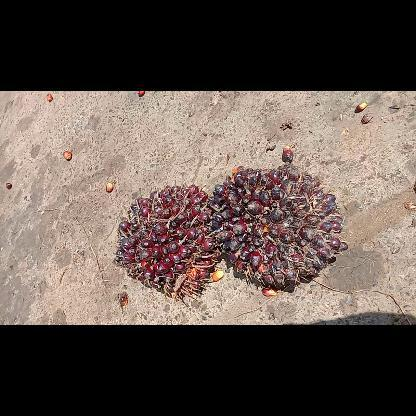Kurang masak: (205, 160, 349, 294), (108, 182, 224, 302)
